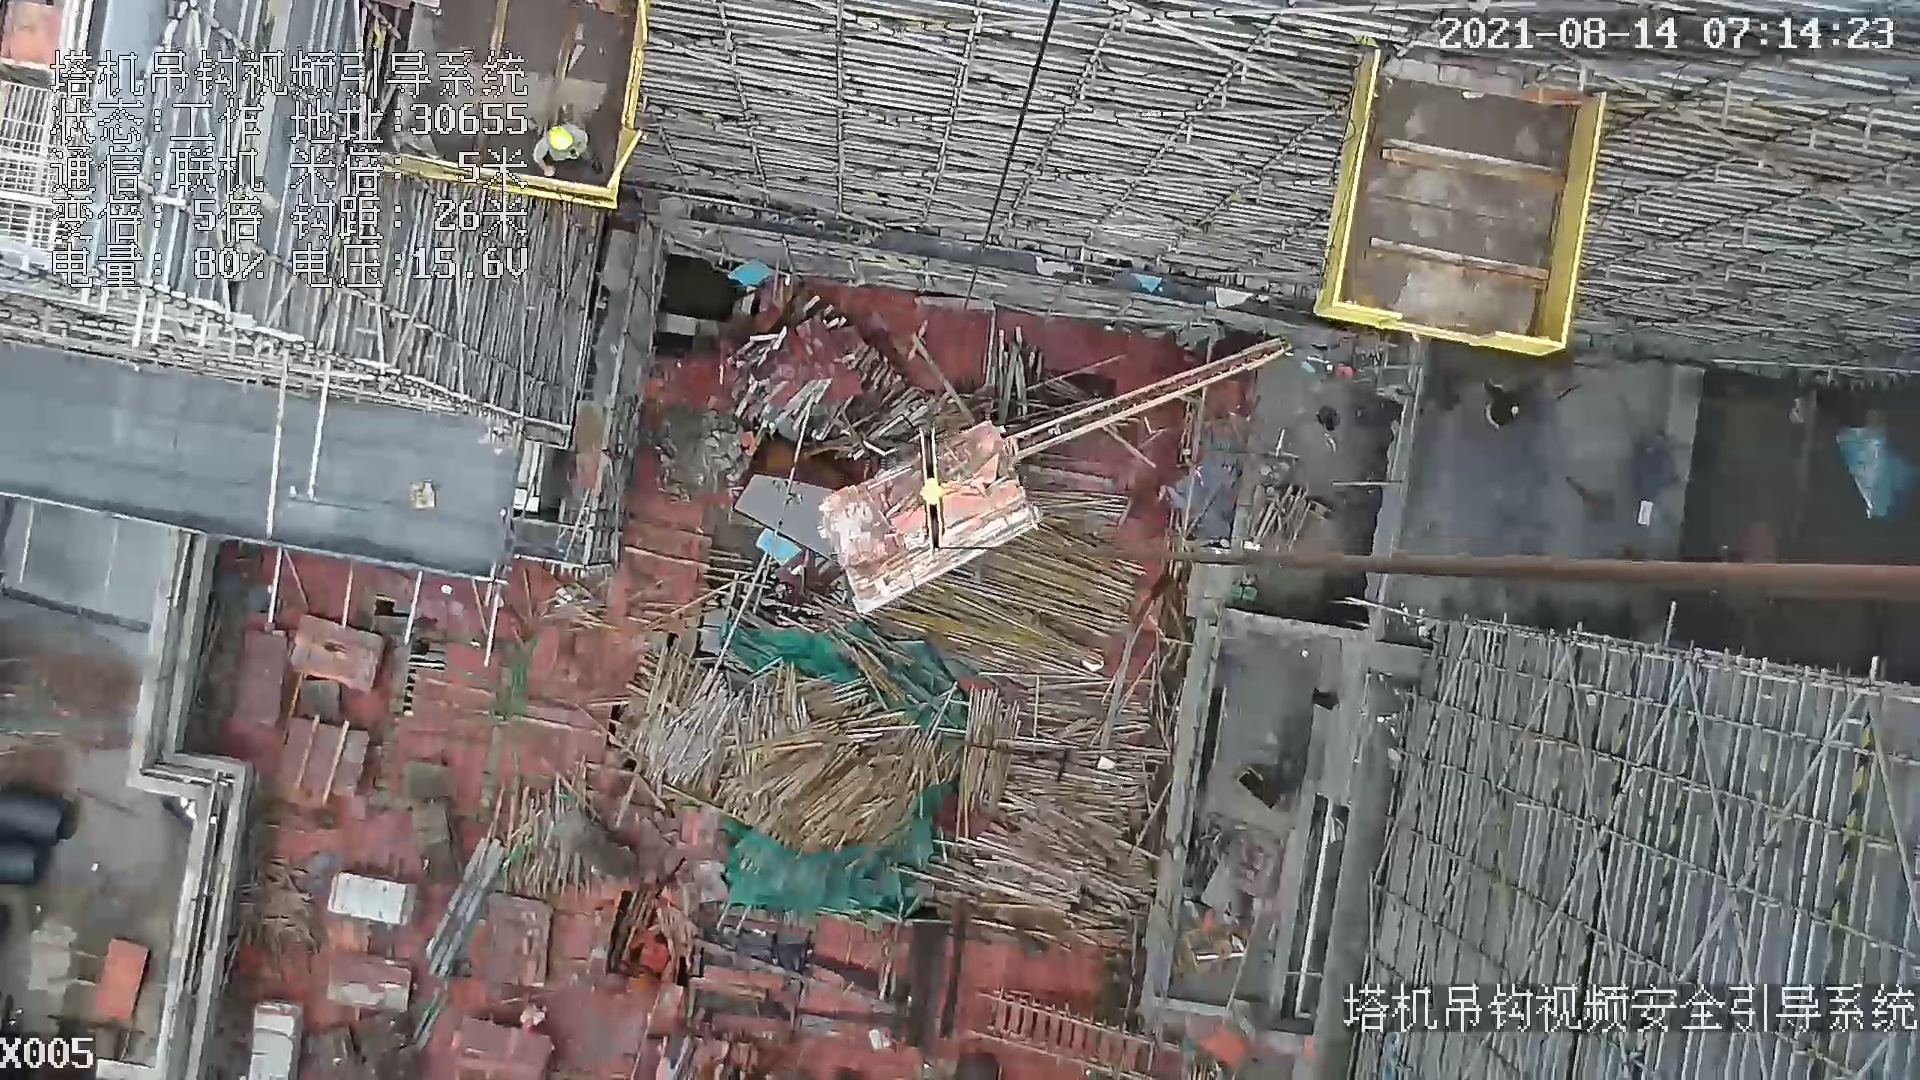helmet: (543, 124, 575, 153)
hook: (908, 417, 964, 554)
person: (526, 117, 588, 176)
